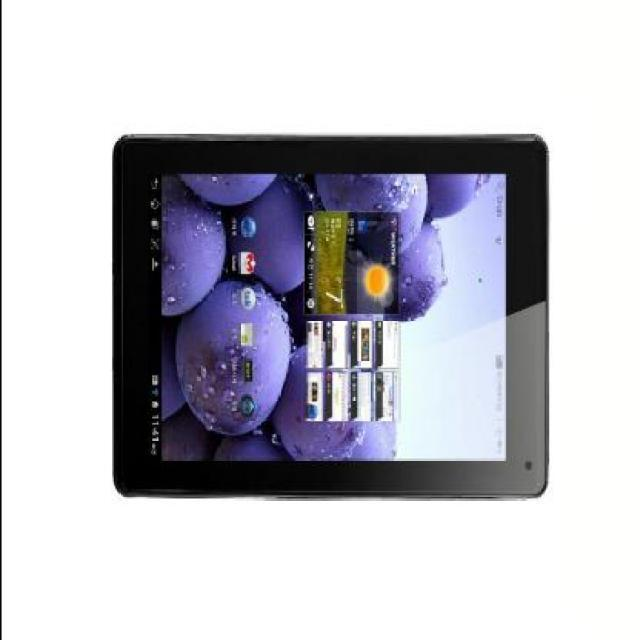phone: (101, 120, 559, 523)
